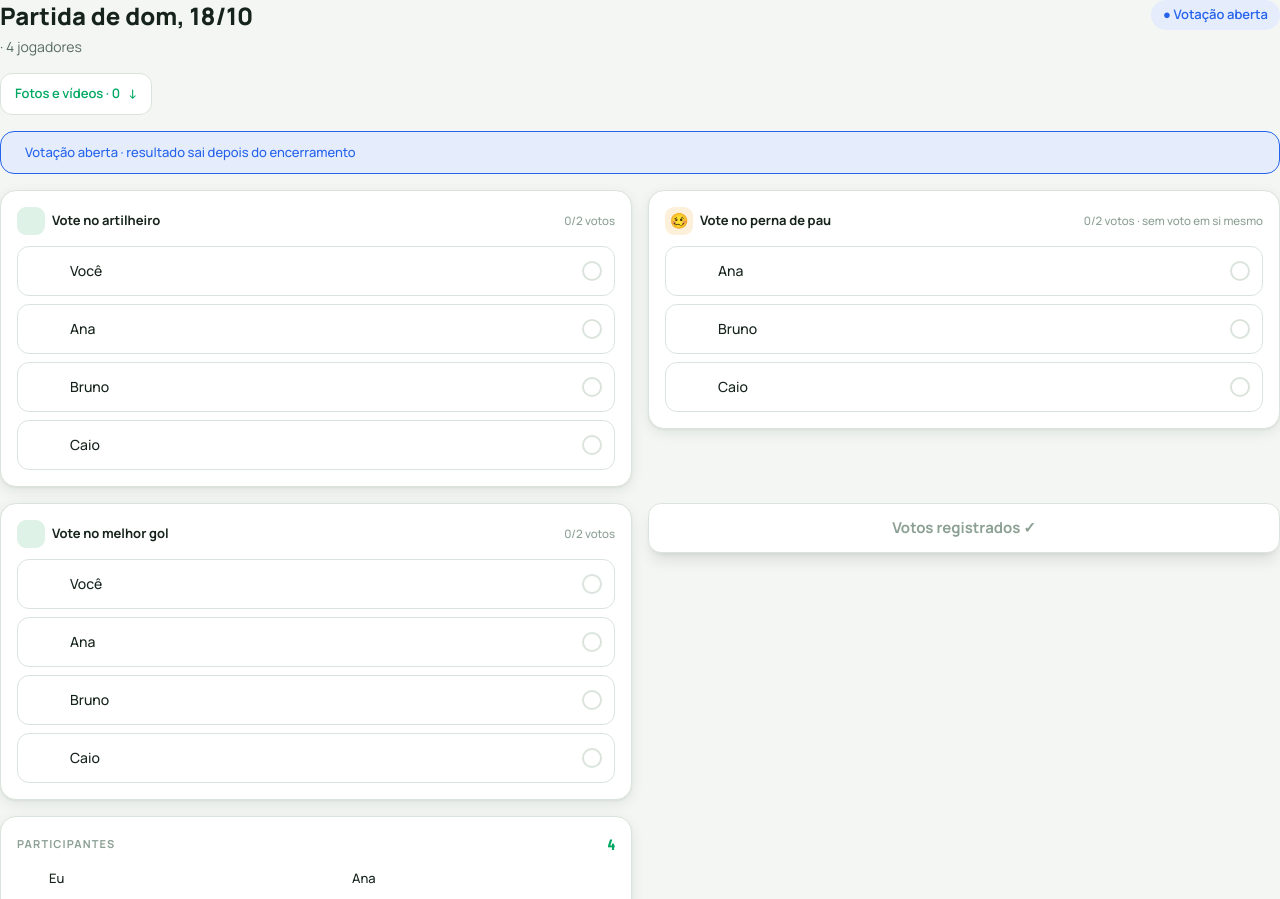
perfil de jogadores na partida › abre o perfil pelo participante e mostra a foto ampliada e as estatísticas
This screenshot has width=1280, height=899.
Step 1. Click the button with aria-label "Ver perfil de Ana" → [332, 878], box [320,866,615,890]
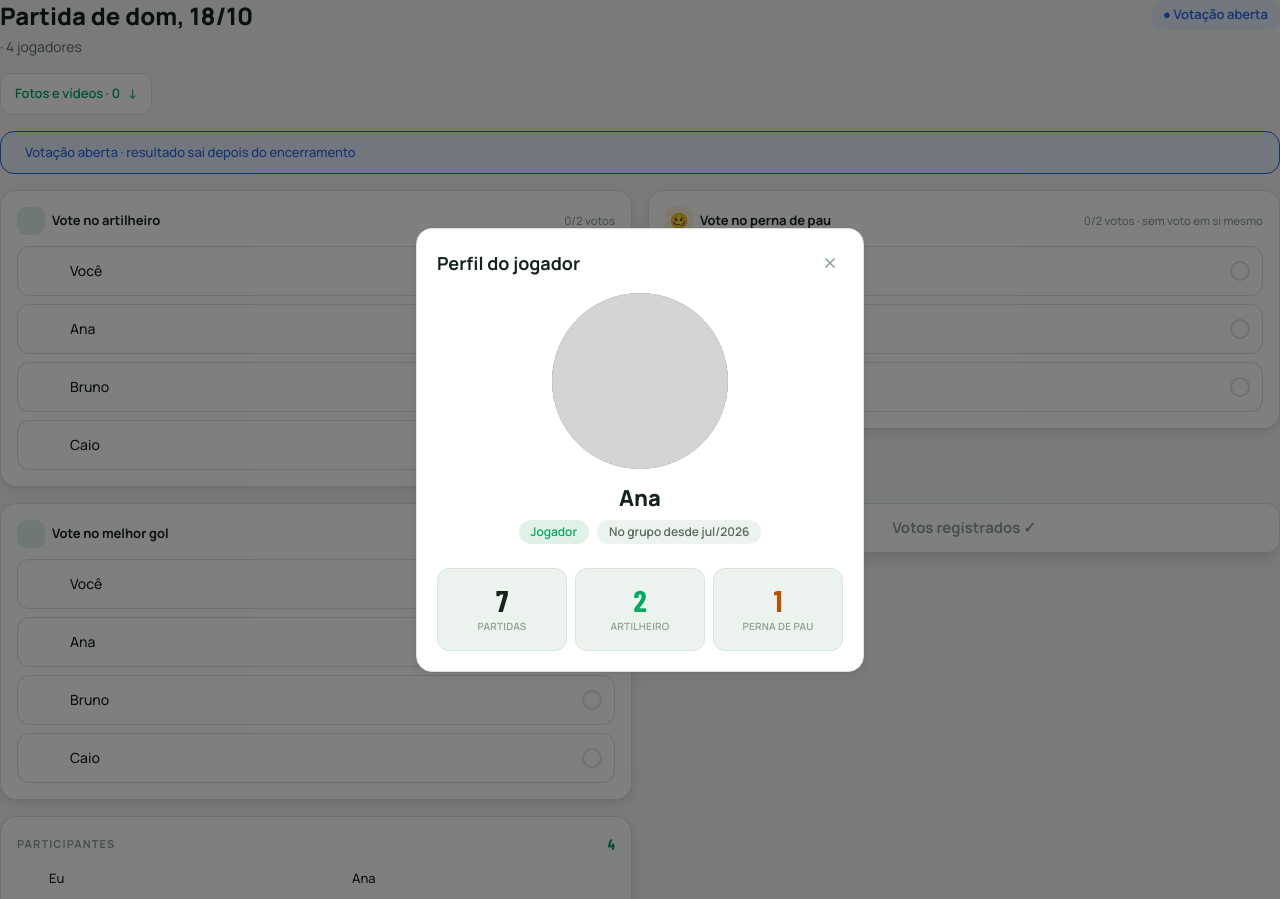
Expected: the text "artilheiro" is shown, [52,211,160,229]
Expected: the text "No grupo desde jul/2026" is shown, [597,520,762,544]
